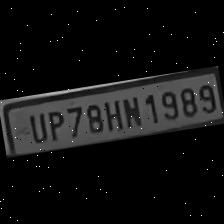1: (138, 90, 160, 126)
7: (60, 102, 86, 140)
8: (81, 100, 106, 136), (175, 84, 199, 119)
9: (155, 86, 180, 122), (194, 80, 218, 116)
H: (100, 96, 124, 134)
N: (119, 94, 143, 130)
P: (42, 106, 66, 142)
U: (23, 109, 48, 145)
